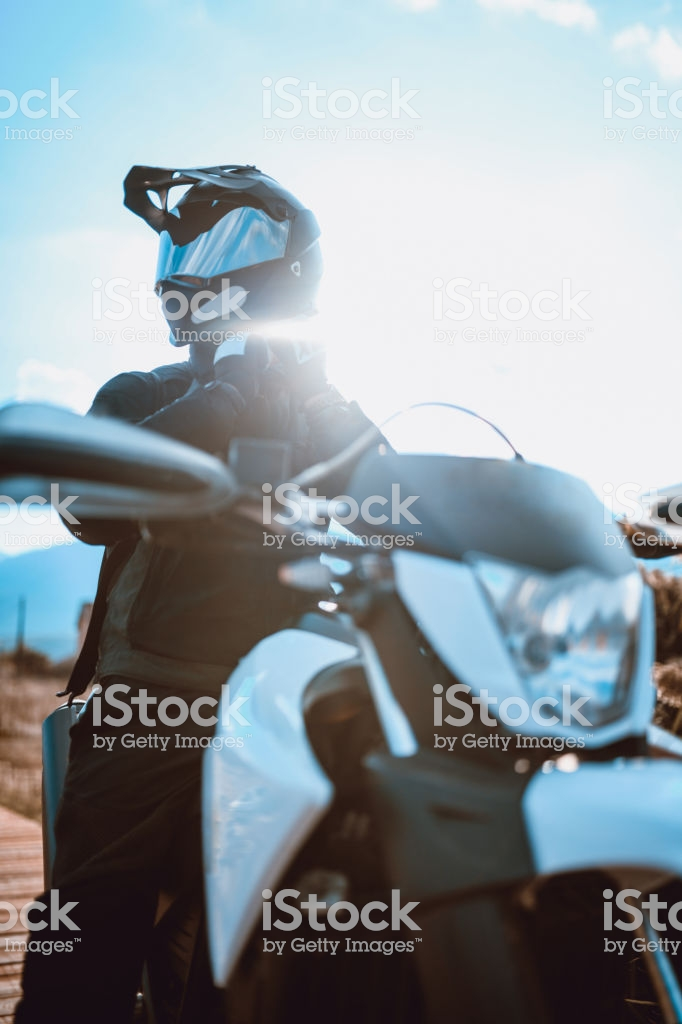helmet: (124, 157, 327, 331)
